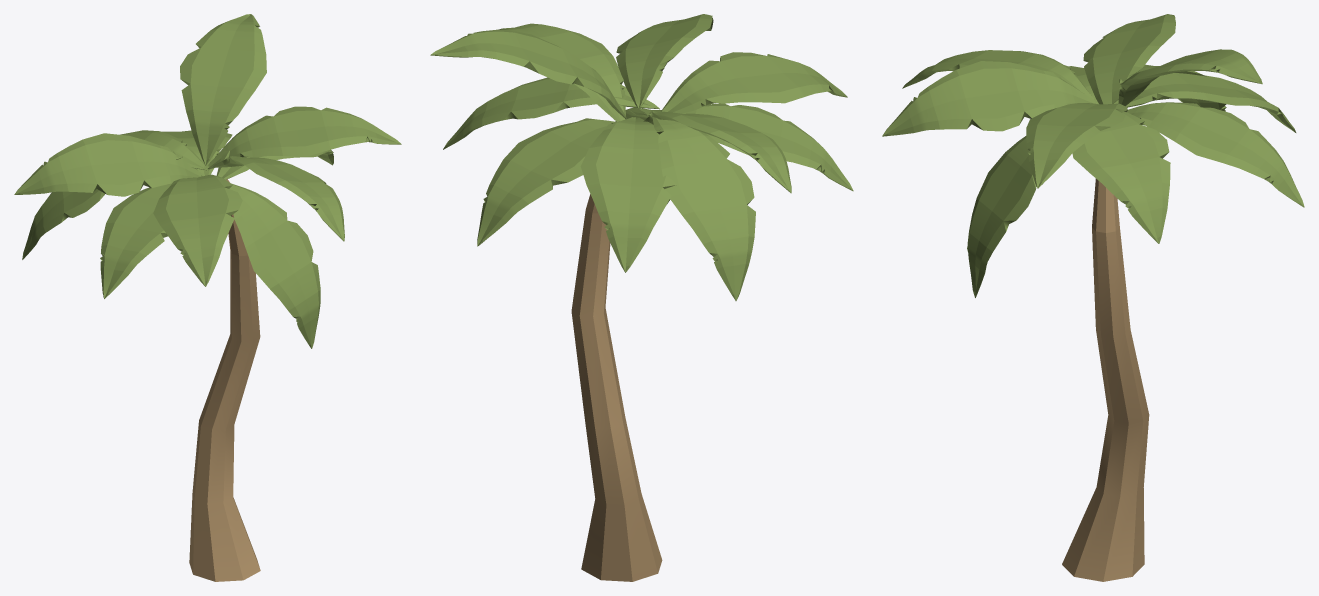
File: atoll_palmTree02.fbx
3 renders of one model, left to right at view 1: azimuth 30°, elevation 25°; view 2: azimuth 150°, elevation 25°; view 3: azimuth 270°, elevation 25°, orthographic. The views are drawn at different scales.
Visible parts, largest first — view 1: TRUNK_1, LEAF_15, LEAF_25, LEAF_21, LEAF_23, LEAF_20, LEAF_19, LEAF_22, LEAF_24, LEAF_18, LEAF_16, LEAF_17; view 2: TRUNK_1, LEAF_24, LEAF_18, LEAF_17, LEAF_23, LEAF_15, LEAF_22, LEAF_16, LEAF_19, LEAF_25, LEAF_20; view 3: TRUNK_1, LEAF_22, LEAF_16, LEAF_17, LEAF_21, LEAF_20, LEAF_25, LEAF_18, LEAF_15, LEAF_23.
Boxes of the visible parts, x1,y1,x2,y2 form: TRUNK_1: [189, 179, 260, 581]; LEAF_15: [180, 14, 266, 165]; LEAF_25: [14, 133, 203, 196]; LEAF_21: [229, 183, 320, 348]; LEAF_23: [153, 174, 242, 286]; LEAF_20: [207, 106, 401, 169]; LEAF_19: [100, 183, 171, 298]; LEAF_22: [212, 156, 344, 241]; LEAF_24: [22, 154, 182, 259]; LEAF_18: [120, 130, 208, 170]; LEAF_16: [216, 138, 333, 179]; LEAF_17: [162, 130, 232, 176]; TRUNK_1: [571, 194, 662, 581]; LEAF_24: [652, 111, 755, 300]; LEAF_18: [580, 117, 676, 272]; LEAF_17: [477, 118, 616, 246]; LEAF_23: [661, 52, 847, 113]; LEAF_15: [430, 29, 626, 119]; LEAF_22: [616, 14, 713, 108]; LEAF_16: [443, 77, 659, 149]; LEAF_19: [682, 103, 853, 191]; LEAF_25: [643, 111, 791, 193]; LEAF_20: [498, 23, 625, 122]; TRUNK_1: [1062, 178, 1149, 581]; LEAF_22: [882, 61, 1098, 136]; LEAF_16: [1072, 112, 1170, 243]; LEAF_17: [1127, 102, 1304, 207]; LEAF_21: [967, 136, 1036, 297]; LEAF_20: [1026, 103, 1127, 188]; LEAF_25: [1083, 14, 1175, 104]; LEAF_18: [1113, 73, 1296, 132]; LEAF_15: [1118, 49, 1262, 106]; LEAF_23: [902, 50, 1094, 99].
Size of the model in its own units: 71.61 by 101 by 71.5.
